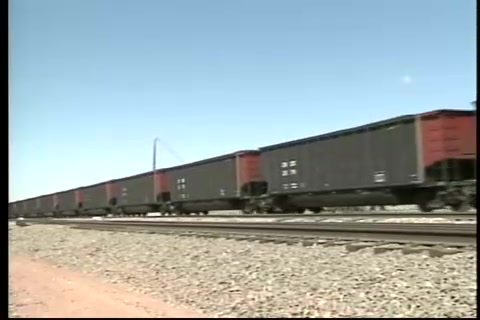train: (9, 109, 479, 222)
